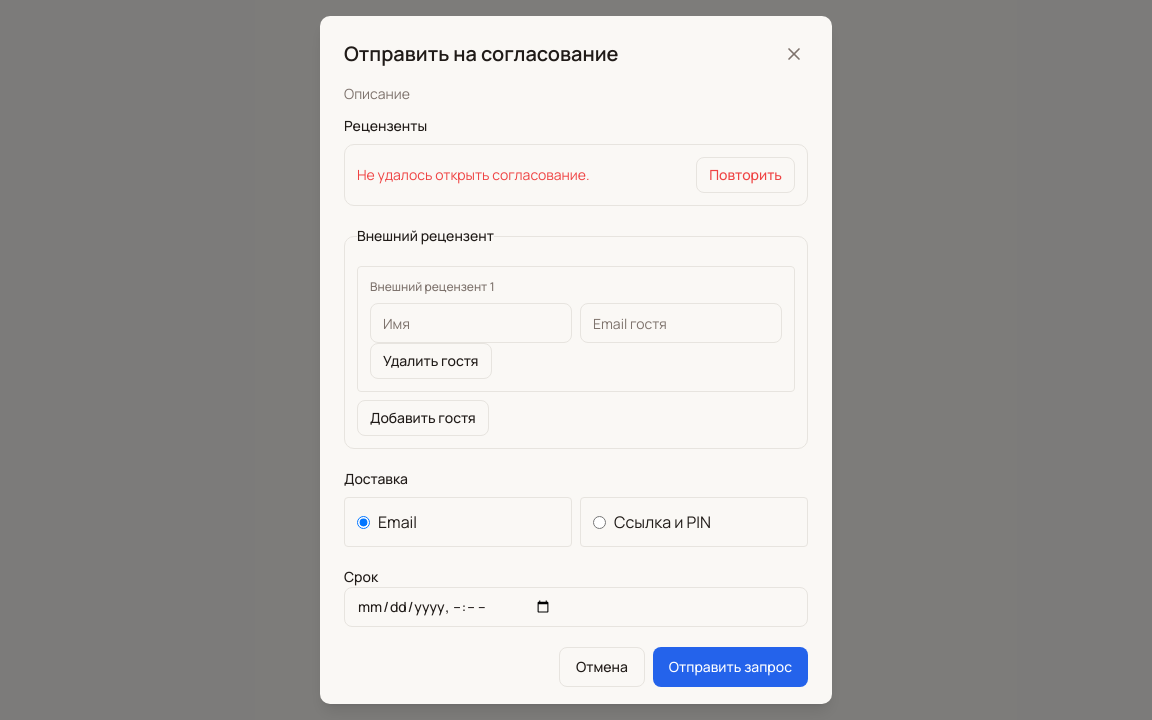
Test: approval reviewer loading › shows a retryable failure instead of treating a failed load as empty
expect the text "Не удалось открыть согласование." is shown: met, box 357,165 -> 590,185
Click the button "Повторить".
click(746, 175)  # box 696,157 -> 795,193
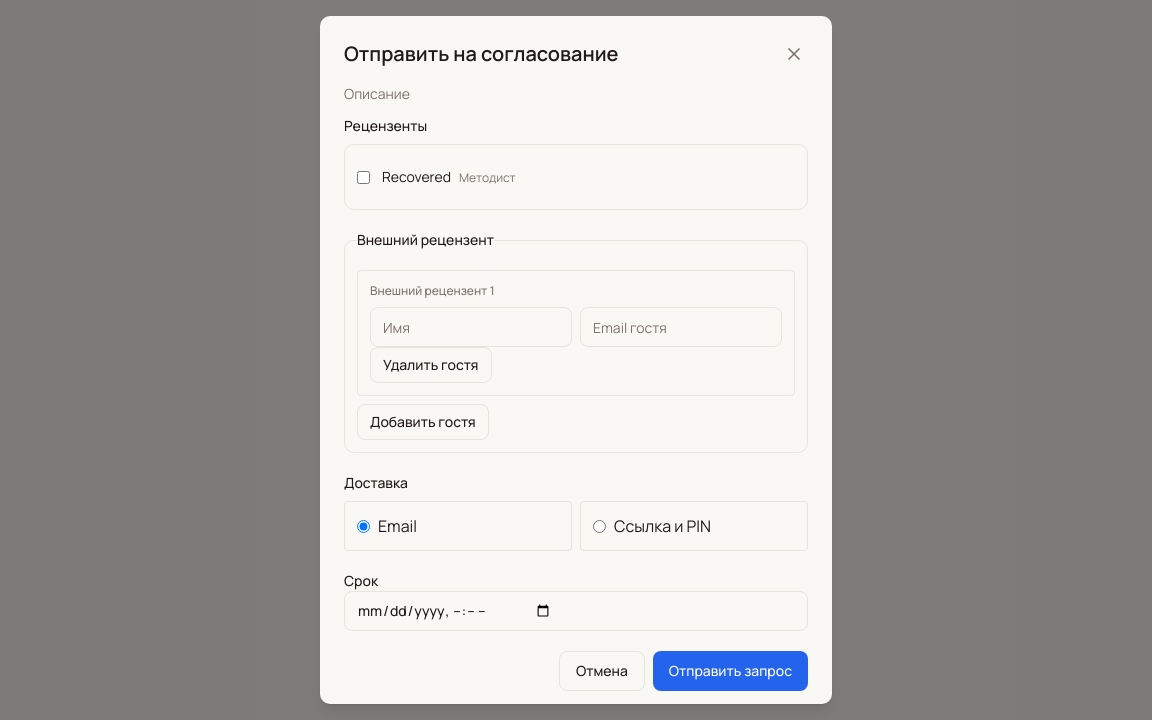
expect the text "Recovered" is shown: met, box 382,167 -> 451,186
